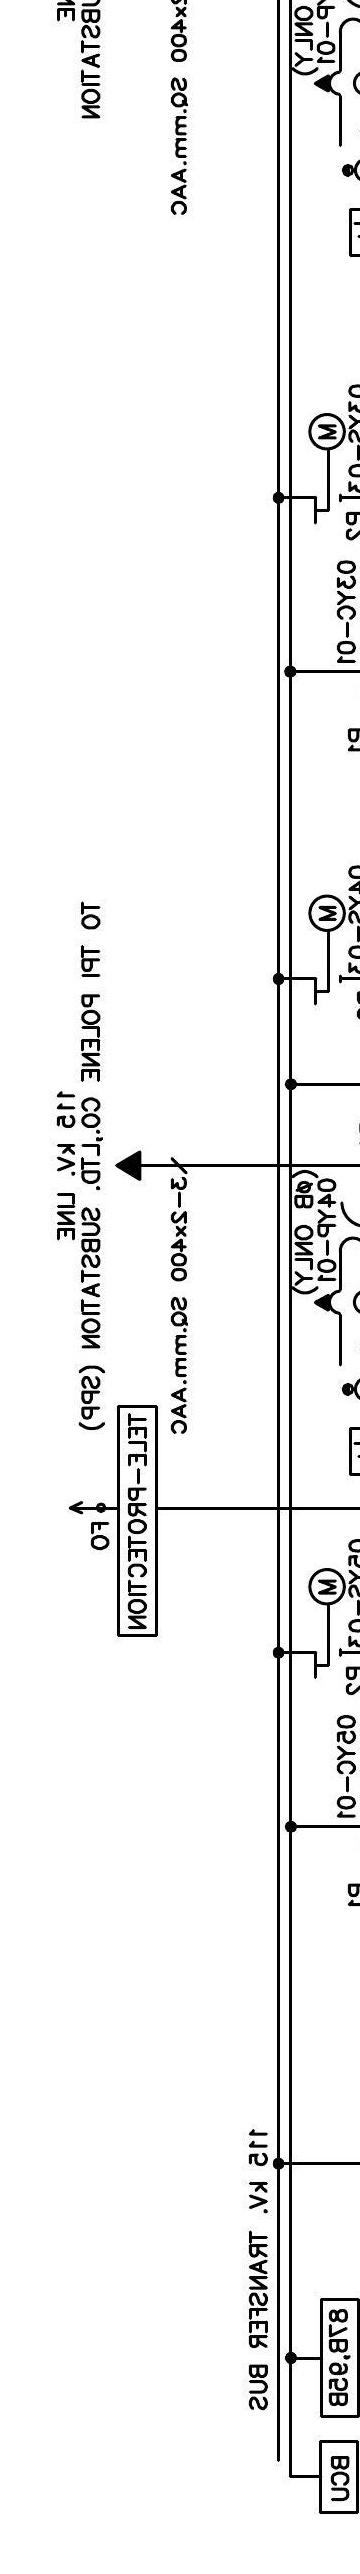115_1way_ds_w_motor: (307, 412, 347, 525), (307, 893, 347, 1006), (307, 1566, 347, 1679)
BCU: (319, 2439, 360, 2515)
tele_protection: (117, 1404, 158, 1638)
